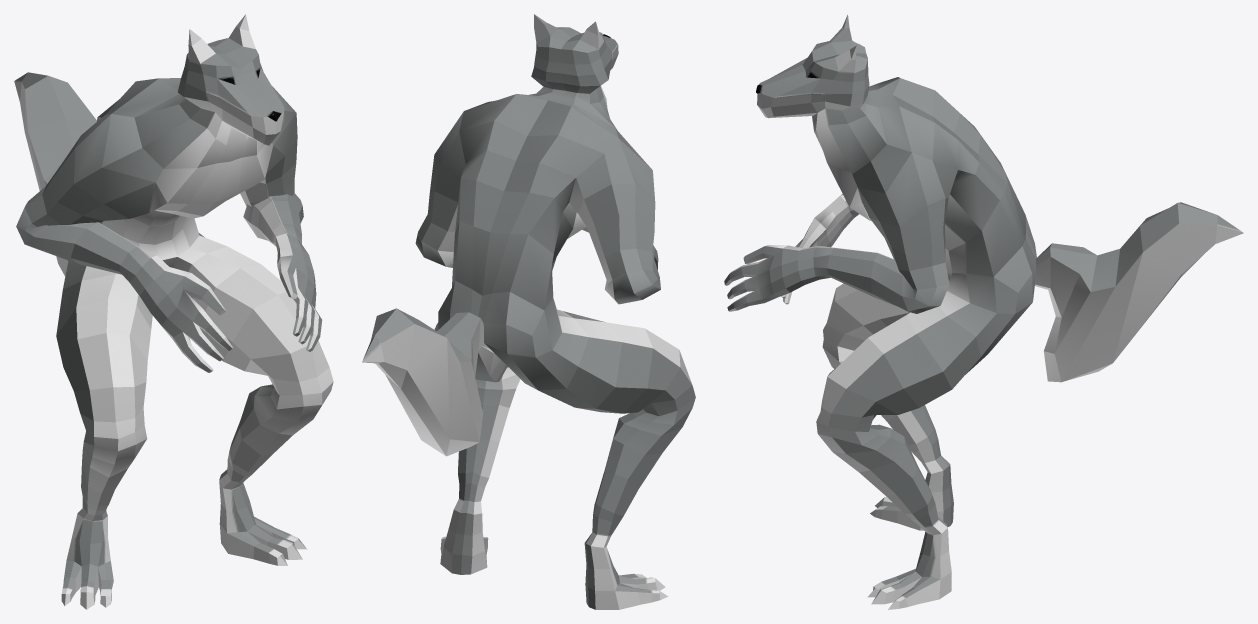
The model's file is WolfIdle_(12).obj.
3 renders of one model, left to right at view 1: azimuth 30°, elevation 25°; view 2: azimuth 150°, elevation 25°; view 3: azimuth 270°, elevation 25°, orthographic. The views are drawn at different scales.
Visible parts, largest first — view 1: Box001; view 2: Box001; view 3: Box001.
Boxes of the visible parts, x1,y1,x2,y2 form: Box001: (14,14,333,609); Box001: (362,14,695,609); Box001: (724,14,1243,609).
Bounding box in the file's own units: 63.68 × 131 × 116.
